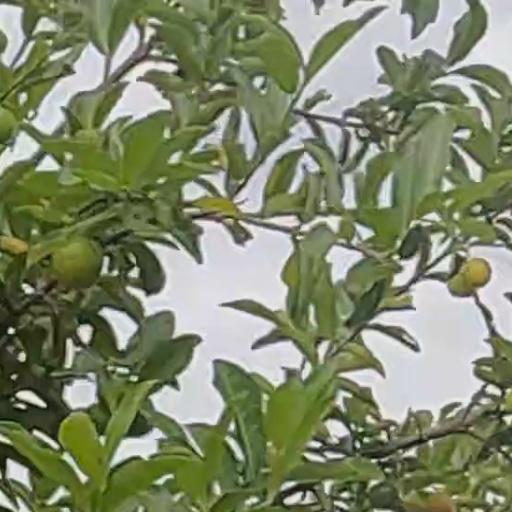acerola: (52, 240, 101, 288), (469, 257, 489, 288), (450, 275, 467, 297)
